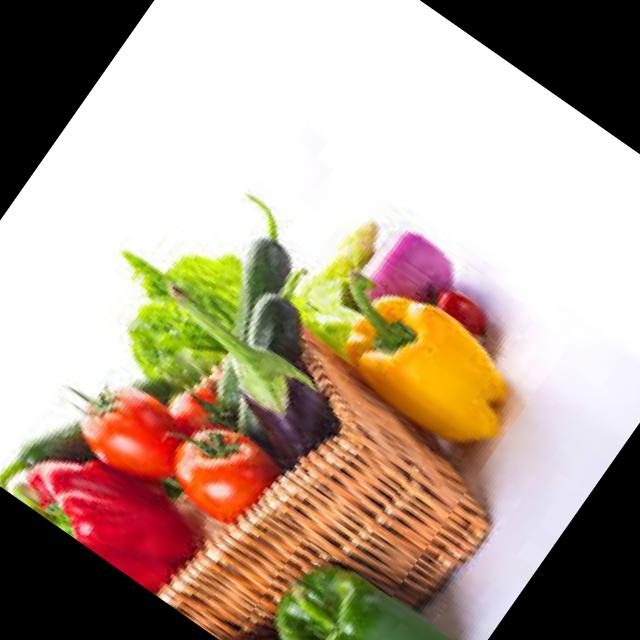Organic: (0, 103, 574, 640), (227, 536, 475, 640)
